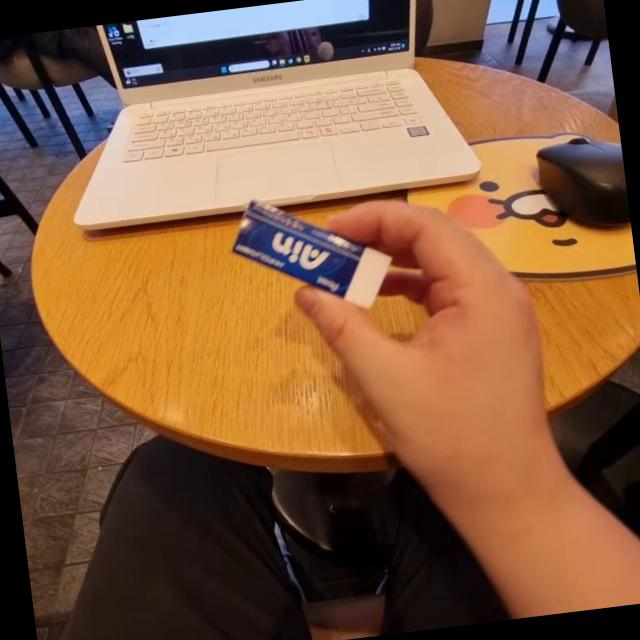eraser: (237, 186, 393, 326)
grab_eraser: (231, 162, 577, 566)
hand: (355, 175, 564, 502)
mouse: (524, 126, 634, 266)
